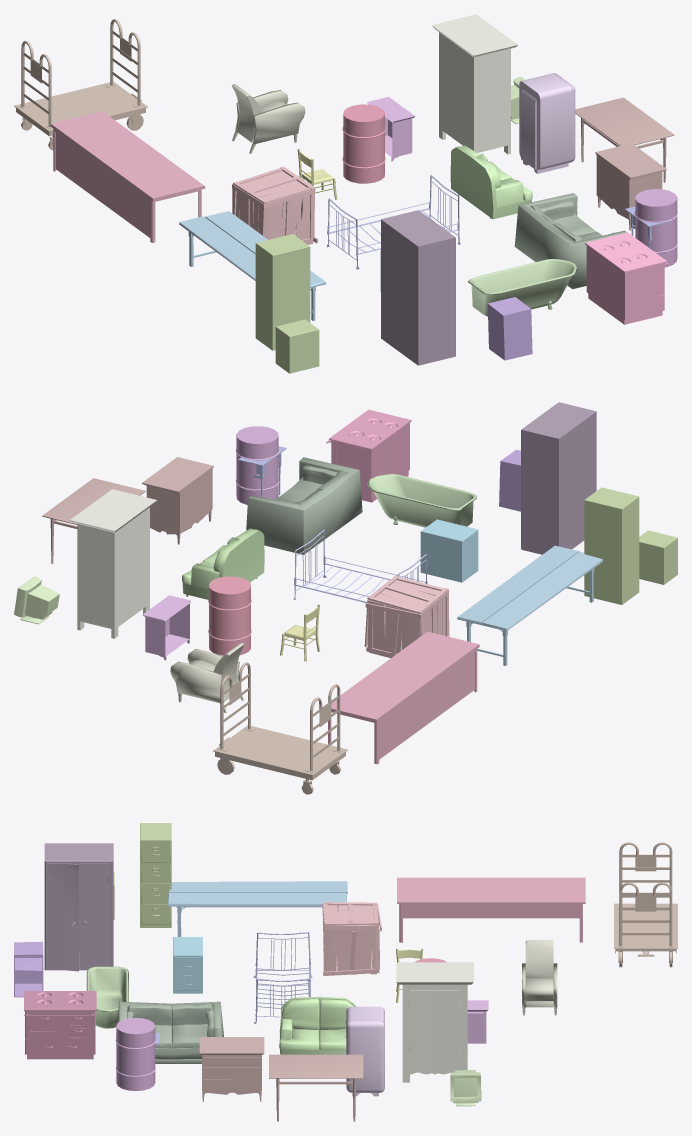
The model's file is HL2 Forniture.fbx.
3 views of the same model, one above another, from view 1: azimuth 30°, elevation 25°; view 2: azimuth 150°, elevation 25°; view 3: azimuth 270°, elevation 25° (orthographic). The views are drawn at different scales.
Visible parts, largest first — view 1: controlroom_storagecloset001a, controlroom_desk001a, furnituredresser001a, furniturestove001a, pushcart01a, controlroom_filecabinet002a, furniturefridge001a, dogobject_wood_crate001a_damagedmax, furniturecouch001a, furniturebathtub001a, furniturecouch002a, furnituredrawer001a (+10 smaller); view 2: controlroom_desk001a, controlroom_storagecloset001a, furnituredresser001a, furniturecouch001a, pushcart01a, controlroom_filecabinet002a, cafeteria_table001a, dogobject_wood_crate001a_damagedmax, furniturestove001a, furnituredrawer001a, furniturebathtub001a, filecabinet02 (+11 smaller); view 3: controlroom_storagecloset001a, controlroom_desk001a, furnituredresser001a, pushcart01a, furniturestove001a, cafeteria_table001a, dogobject_wood_crate001a_damagedmax, furniturecouch001a, furniturecouch002a, furnituredrawer001a, controlroom_filecabinet002a, furniturefridge001a (+9 smaller).
Part boxes in pixels (box(x1,y1,x2,y2)): controlroom_storagecloset001a: box(381, 210, 455, 365); controlroom_desk001a: box(50, 111, 205, 242); furnituredresser001a: box(432, 14, 517, 154); furniturestove001a: box(585, 232, 669, 324); pushcart01a: box(14, 19, 147, 150); controlroom_filecabinet002a: box(255, 234, 310, 350); furniturefridge001a: box(519, 73, 575, 173); dogobject_wood_crate001a_damagedmax: box(232, 166, 317, 244); furniturecouch001a: box(514, 193, 627, 289); furniturebathtub001a: box(468, 259, 577, 316); furniturecouch002a: box(450, 145, 532, 219); furnituredrawer001a: box(595, 143, 666, 230); controlroom_desk001a: box(328, 631, 479, 764); controlroom_storagecloset001a: box(521, 402, 596, 554); furnituredresser001a: box(70, 489, 156, 638); furniturecouch001a: box(246, 457, 362, 554); pushcart01a: box(213, 662, 347, 794); controlroom_filecabinet002a: box(584, 487, 639, 604); cafeteria_table001a: box(457, 545, 602, 665); dogobject_wood_crate001a_damagedmax: box(364, 575, 449, 658); furniturestove001a: box(326, 409, 411, 502); furnituredrawer001a: box(142, 457, 213, 544); furniturebathtub001a: box(367, 474, 476, 527); filecabinet02: box(420, 519, 478, 582); controlroom_storagecloset001a: box(44, 843, 113, 971); controlroom_desk001a: box(397, 877, 585, 942); furnituredresser001a: box(396, 962, 473, 1082); pushcart01a: box(614, 842, 677, 967); furniturestove001a: box(24, 991, 96, 1059); cafeteria_table001a: box(168, 881, 347, 936); dogobject_wood_crate001a_damagedmax: box(322, 902, 381, 975); furniturecouch001a: box(118, 1001, 223, 1063); furniturecouch002a: box(279, 996, 355, 1054); furnituredrawer001a: box(199, 1037, 264, 1101); controlroom_filecabinet002a: box(140, 823, 171, 927); furniturefridge001a: box(346, 1006, 384, 1096).
Bounding box in the file's own units: 703 × 166 × 907.
